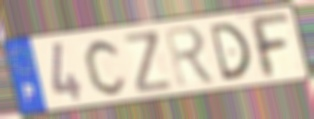4: (50, 40, 84, 105)
C: (83, 37, 130, 98)
D: (207, 20, 254, 83)
F: (245, 12, 293, 82)
R: (161, 24, 219, 89)
Z: (121, 28, 176, 96)
